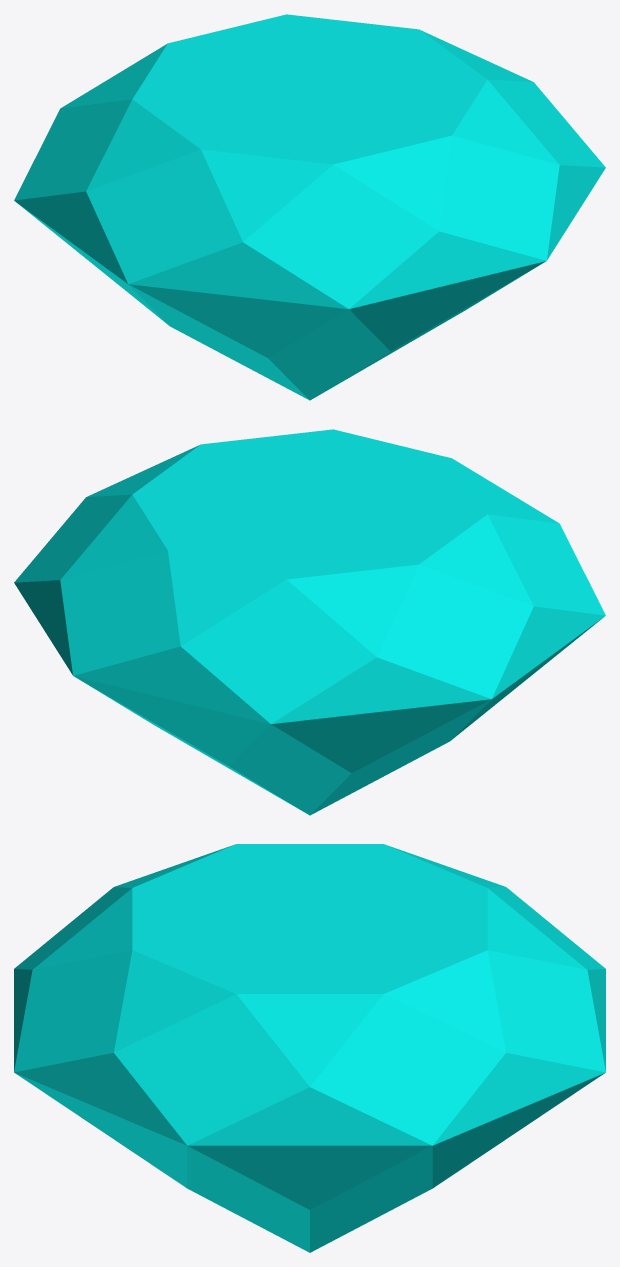
Rendered from Gem_06.glb.
3 renders of one model, top to bottom at view 1: azimuth 30°, elevation 25°; view 2: azimuth 150°, elevation 25°; view 3: azimuth 270°, elevation 25°, orthographic. The views are drawn at different scales.
Visible parts, largest first — view 1: Gem_06; view 2: Gem_06; view 3: Gem_06.
Boxes of the visible parts, x1=… form: Gem_06: x1=14, y1=14, x2=605, y2=400; Gem_06: x1=14, y1=429, x2=605, y2=815; Gem_06: x1=14, y1=844, x2=605, y2=1252.
Bounding box in the file's own units: 0.1114 × 0.0693 × 0.1114.
